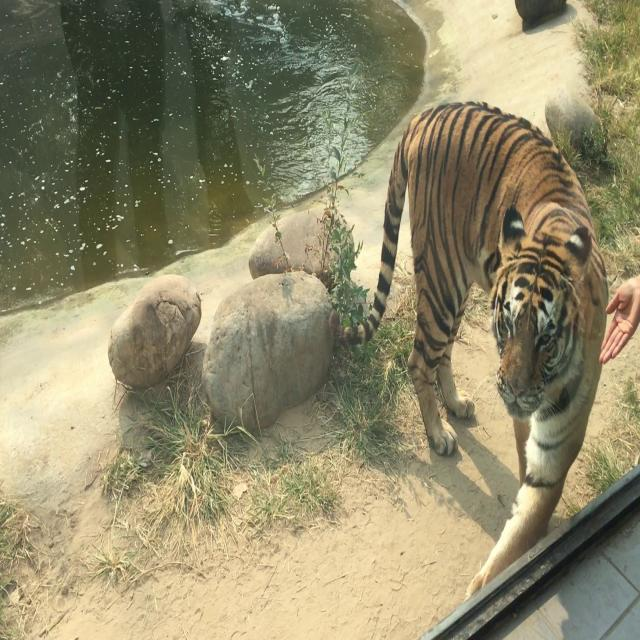Tiger: (335, 60, 628, 613)
